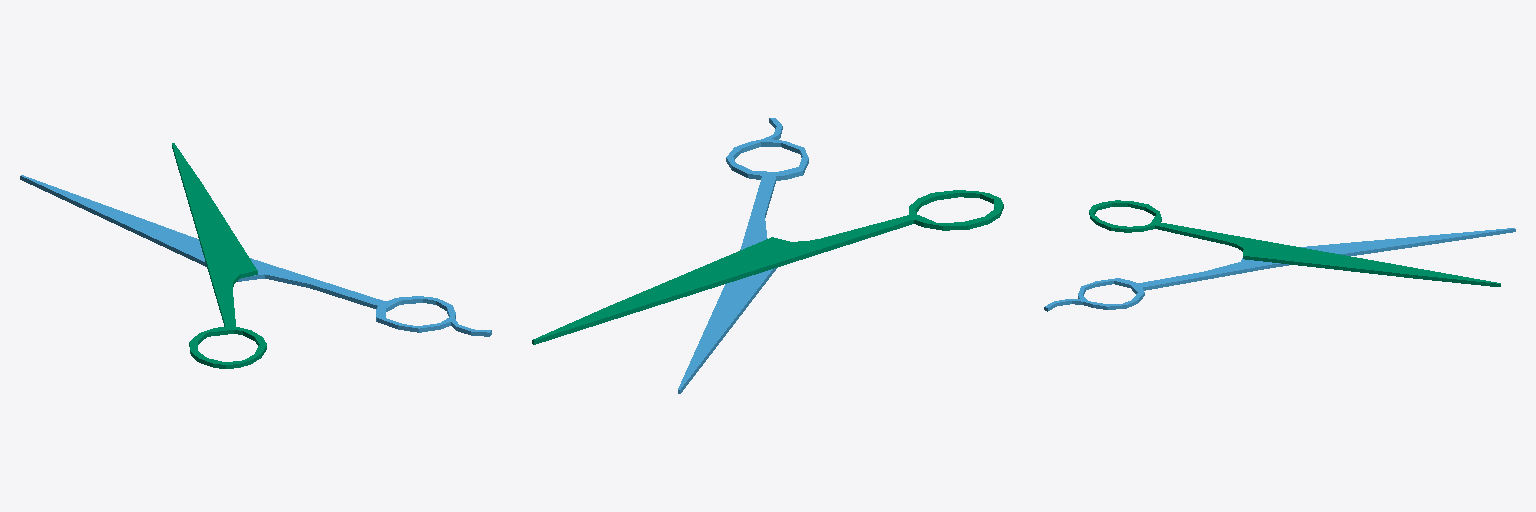
URDF robot description (partnet_1c2f450311ebe37a95f577622f465c85):
<?xml version="1.0" ?>
<robot name="partnet_1c2f450311ebe37a95f577622f465c85">
	<link name="base"/>
	<link name="link_0">
		<visual name="blade-5">
			<origin xyz="-0.006112207895012212 -0.015478999999999798 -0.010956438587861106"/>
			<geometry>
				<mesh filename="textured_objs/new-5.obj"/>
			</geometry>
		</visual>
		<visual name="handle-6">
			<origin xyz="-0.006112207895012212 -0.015478999999999798 -0.010956438587861106"/>
			<geometry>
				<mesh filename="textured_objs/new-4.obj"/>
			</geometry>
		</visual>
		<visual name="handle-6">
			<origin xyz="-0.006112207895012212 -0.015478999999999798 -0.010956438587861106"/>
			<geometry>
				<mesh filename="textured_objs/new-3.obj"/>
			</geometry>
		</visual>
		<collision>
			<origin xyz="-0.006112207895012212 -0.015478999999999798 -0.010956438587861106"/>
			<geometry>
				<mesh filename="textured_objs/new-5.obj"/>
			</geometry>
		</collision>
		<collision>
			<origin xyz="-0.006112207895012212 -0.015478999999999798 -0.010956438587861106"/>
			<geometry>
				<mesh filename="textured_objs/new-4.obj"/>
			</geometry>
		</collision>
		<collision>
			<origin xyz="-0.006112207895012212 -0.015478999999999798 -0.010956438587861106"/>
			<geometry>
				<mesh filename="textured_objs/new-3.obj"/>
			</geometry>
		</collision>
	</link>
	<joint name="joint_0" type="revolute">
		<origin xyz="0.006112207895012212 0.015478999999999798 0.010956438587861106"/>
		<axis xyz="0 1 0"/>
		<child link="link_0"/>
		<parent link="link_1"/>
		<limit lower="-0.5780530482605221" upper="1.2629202467430969"/>
	</joint>
	<link name="link_1">
		<visual name="blade-7">
			<origin xyz="0 0 0"/>
			<geometry>
				<mesh filename="textured_objs/new-6.obj"/>
			</geometry>
		</visual>
		<visual name="handle-8">
			<origin xyz="0 0 0"/>
			<geometry>
				<mesh filename="textured_objs/new-1.obj"/>
			</geometry>
		</visual>
		<visual name="handle-8">
			<origin xyz="0 0 0"/>
			<geometry>
				<mesh filename="textured_objs/new-7.obj"/>
			</geometry>
		</visual>
		<collision>
			<origin xyz="0 0 0"/>
			<geometry>
				<mesh filename="textured_objs/new-6.obj"/>
			</geometry>
		</collision>
		<collision>
			<origin xyz="0 0 0"/>
			<geometry>
				<mesh filename="textured_objs/new-1.obj"/>
			</geometry>
		</collision>
		<collision>
			<origin xyz="0 0 0"/>
			<geometry>
				<mesh filename="textured_objs/new-7.obj"/>
			</geometry>
		</collision>
	</link>
	<joint name="joint_1" type="fixed">
		<origin rpy="1.570796326794897 0 -1.570796326794897" xyz="0 0 0"/>
		<child link="link_1"/>
		<parent link="base"/>
	</joint>
</robot>

--- Render facts (derived) ---
The picture shows the robot from 3 angles, left to right: view 1: azimuth 30°, elevation 25°; view 2: azimuth 150°, elevation 25°; view 3: azimuth 270°, elevation 25°; orthographic projection.
Model partnet_1c2f450311ebe37a95f577622f465c85 with 3 links and 2 joints (1 revolute, 1 fixed), rooted at base, posed every joint at zero.
Links seen in each view (by area): view 1: link_1, link_0; view 2: link_1, link_0; view 3: link_1, link_0.
Link boxes in pixels (x1,y1,x2,y2): link_1: (172,143,266,368); link_0: (20,175,491,336); link_1: (532,190,1003,344); link_0: (678,118,808,393); link_1: (1089,200,1500,286); link_0: (1044,228,1515,311).
Size in the robot's own frame: 0.9857 by 1.88 by 0.0313 metres.
6 mesh visuals loaded from 6 distinct referenced files (6 OBJ).